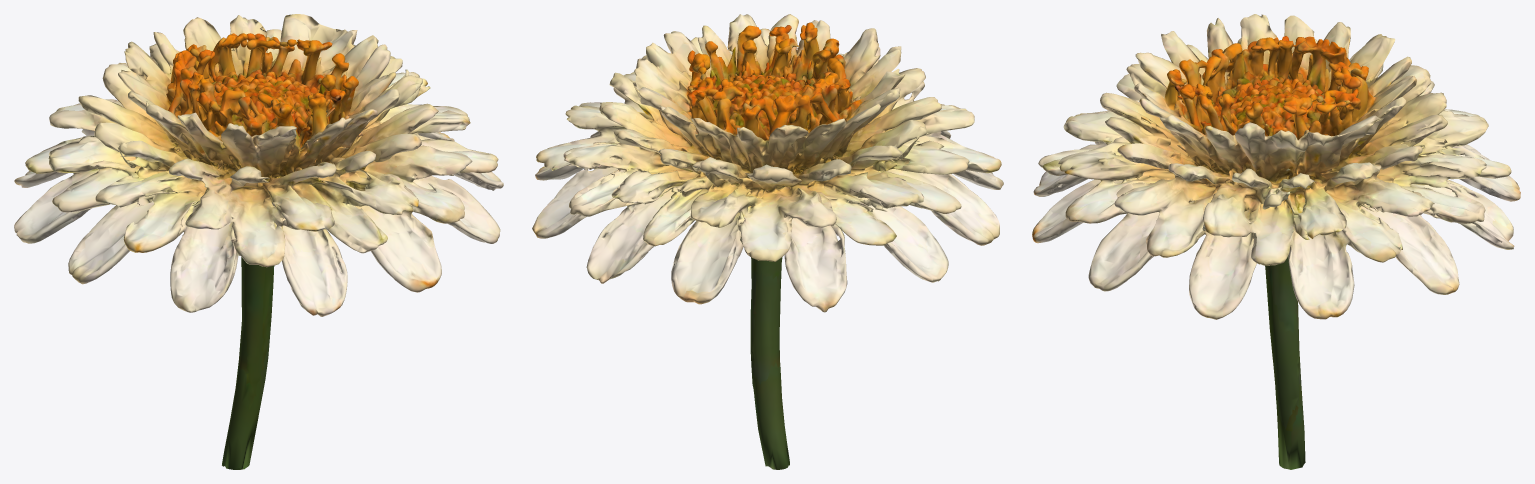
File: yellow_jasmine_flower.glb
The picture shows the model from 3 angles, left to right: view 1: azimuth 30°, elevation 25°; view 2: azimuth 150°, elevation 25°; view 3: azimuth 270°, elevation 25°; orthographic projection. The views are drawn at different scales.
Bounding box in the file's own units: 1.99 × 1.84 × 2.
1 material, 1 textured.
